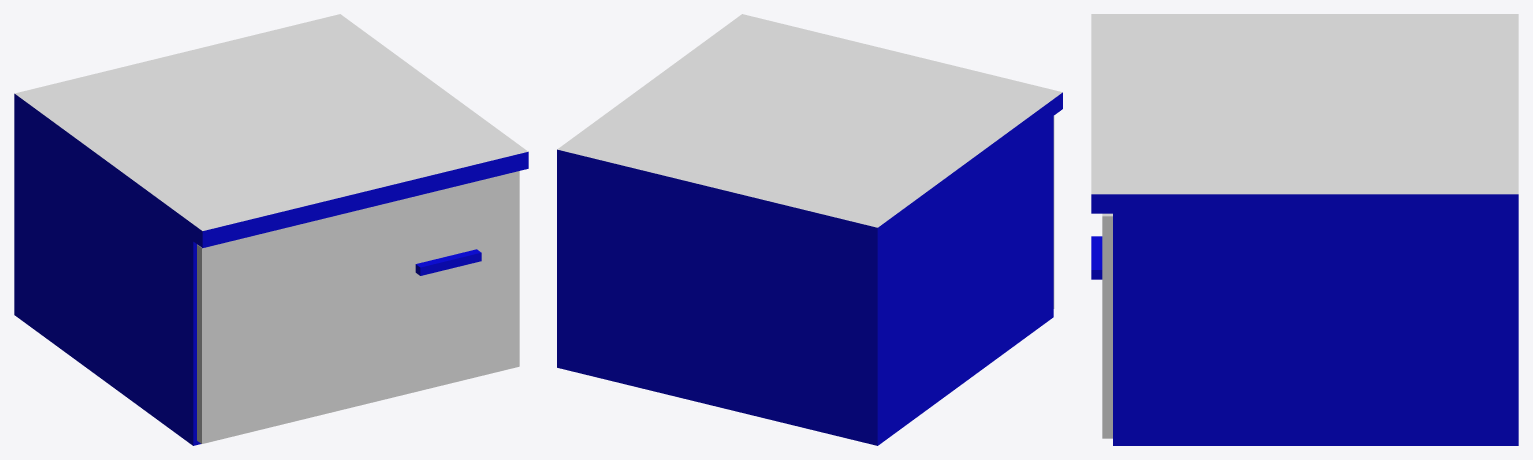
The model's file is c_1door.fbx.
3 views of the same model, side by side, from view 1: azimuth 30°, elevation 25°; view 2: azimuth 150°, elevation 25°; view 3: azimuth 270°, elevation 25° (orthographic). The views are drawn at different scales.
Parts seen in each view (by area): view 1: pCube132, polySurface32, pCube88; view 2: pCube88, pCube132; view 3: pCube88, pCube132, polySurface32.
Boxes of the visible parts, x1=… form: pCube132: x1=14, y1=14, x2=528, y2=248; polySurface32: x1=197, y1=171, x2=519, y2=443; pCube88: x1=14, y1=110, x2=200, y2=445; pCube88: x1=557, y1=116, x2=1053, y2=445; pCube132: x1=557, y1=14, x2=1062, y2=244; pCube88: x1=1113, y1=213, x2=1518, y2=445; pCube132: x1=1091, y1=14, x2=1518, y2=213; polySurface32: x1=1091, y1=213, x2=1112, y2=438.
Bounding box in the file's own units: 200 × 130 × 200.
